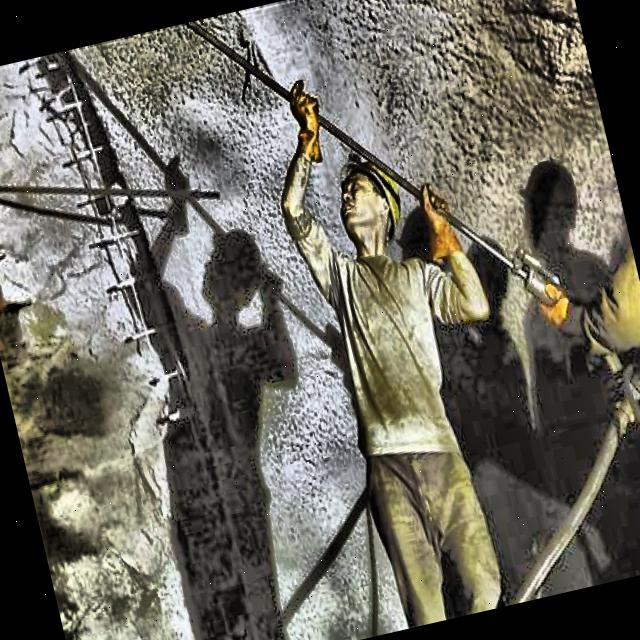helmet: (318, 131, 414, 263)
